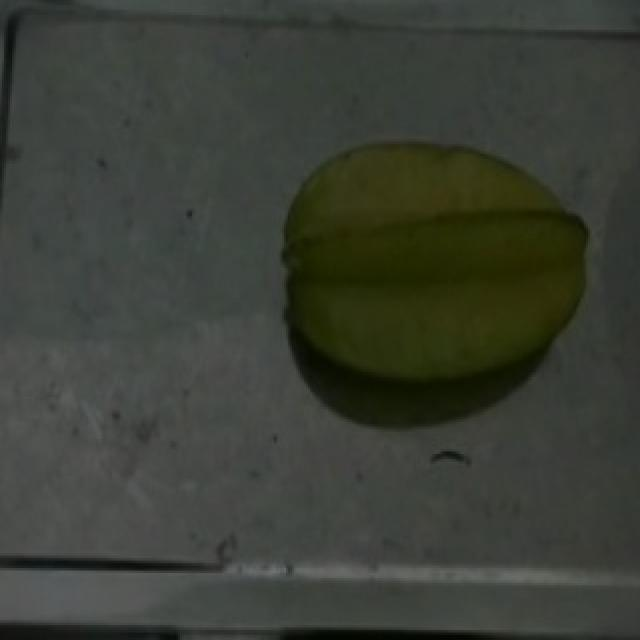fruit: (266, 111, 614, 412)
